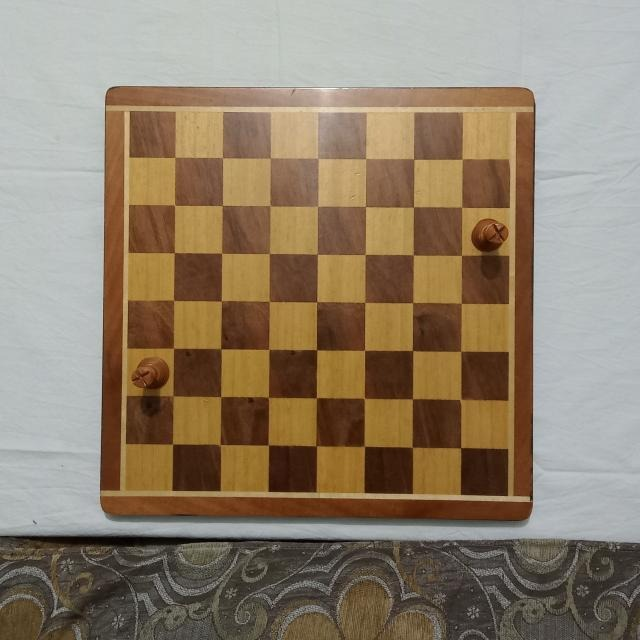white-rook: (129, 356, 171, 392), (470, 217, 510, 253)
